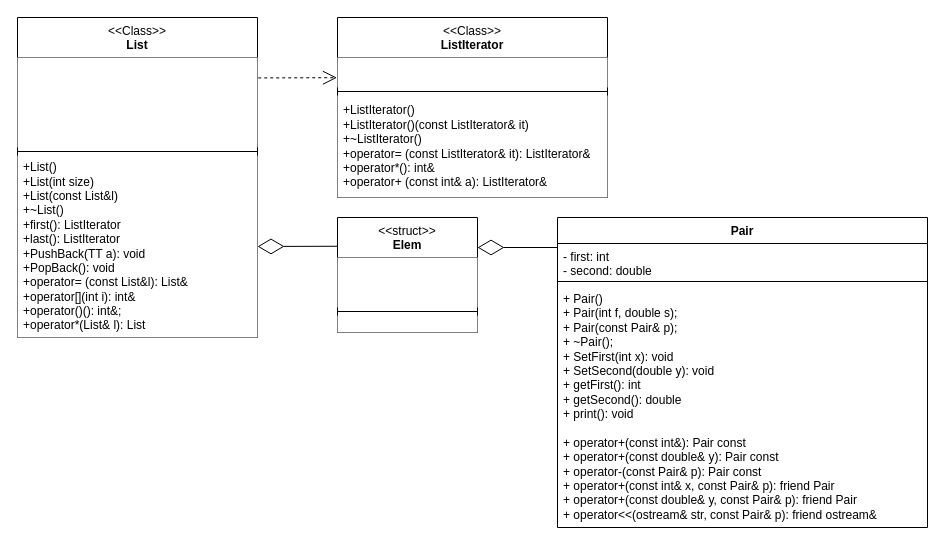
This 945x548 diagram has some shape labels left out. Here are the shapes that lost their labels. From the top down, the centre of each, then its label:
pixel 472 72: -elem: Elem*
pixel 137 102: -size: int -head: Elem* -tail: Elem* -beg: ListIterator -end: ListIterator
pixel 407 282: +data: TT +next: *Elem +prev: *Elem
